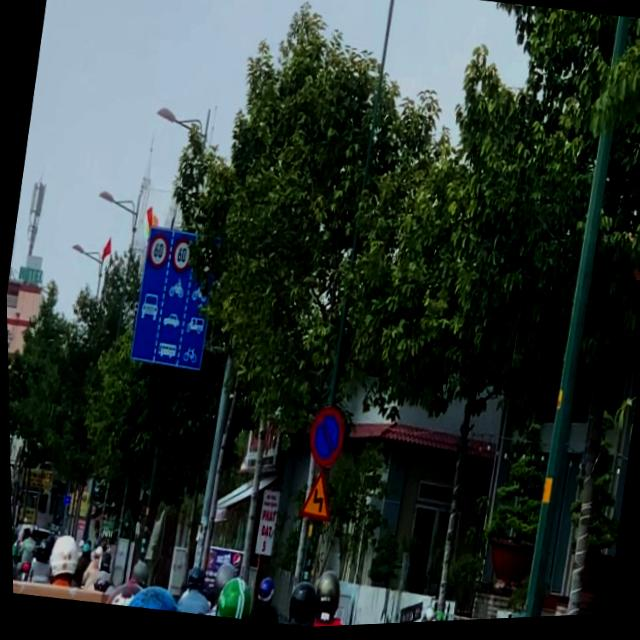Cam do xe: (303, 406, 347, 473)
Nhieu cho ngoat lien tiep ben trai: (296, 470, 336, 526)
Toc do toi da cho phep: (168, 237, 194, 277), (145, 233, 170, 272)
